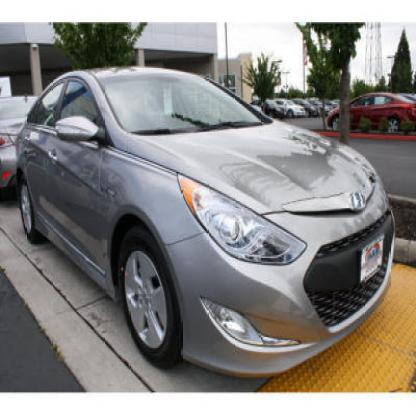Vehicle: (17, 68, 398, 384)
